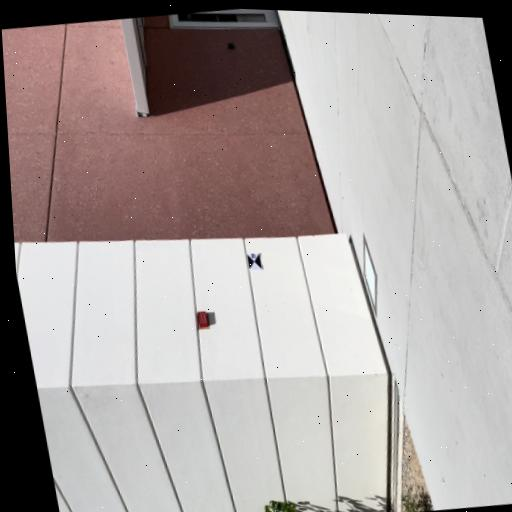target9: (247, 252, 263, 270)
